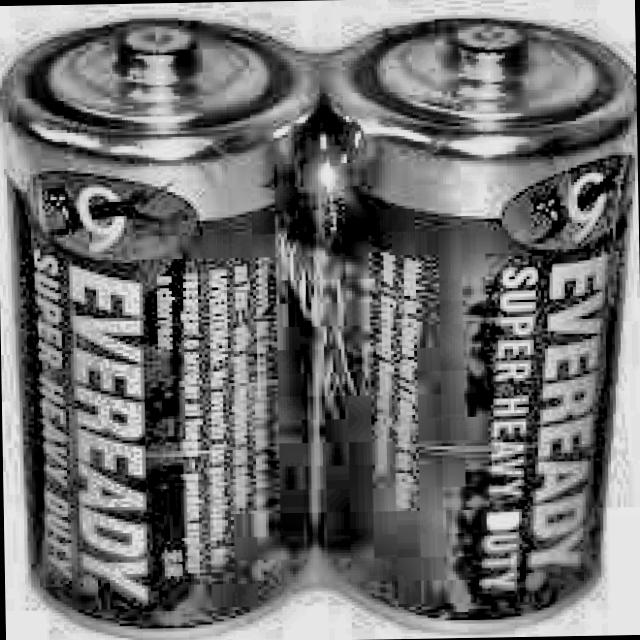Battery: (0, 17, 328, 636), (325, 14, 640, 627)
